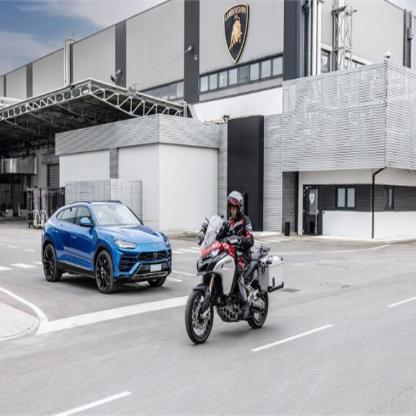bike: (189, 224, 283, 353)
car: (39, 201, 173, 290)
